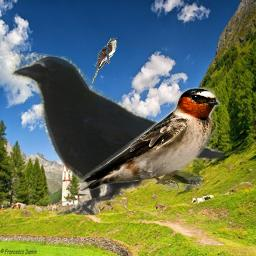Crow: (6, 51, 224, 215)
Cuckoo: (92, 38, 119, 84)
Swallow: (80, 86, 220, 191)
